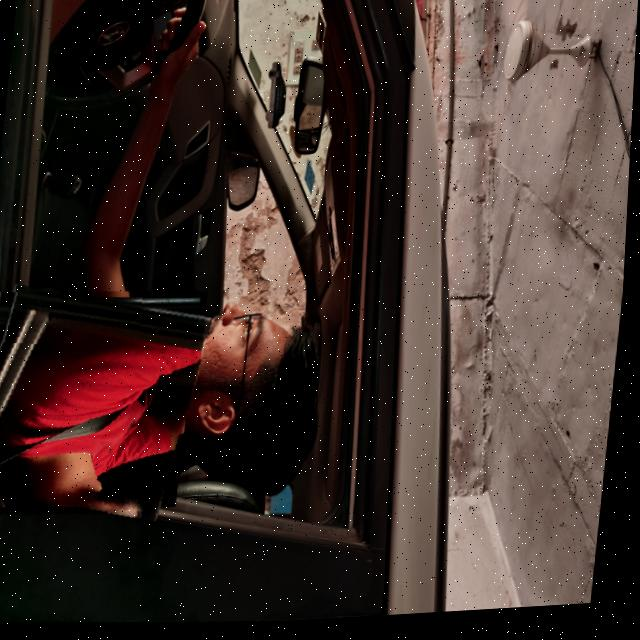seatbelt: (0, 281, 211, 524)
